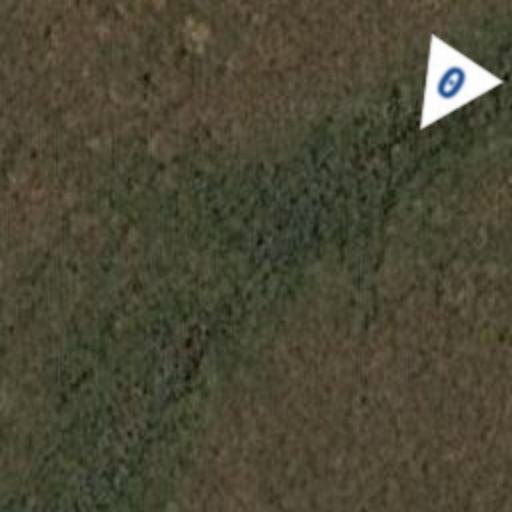triangle: (384, 34, 504, 154)
